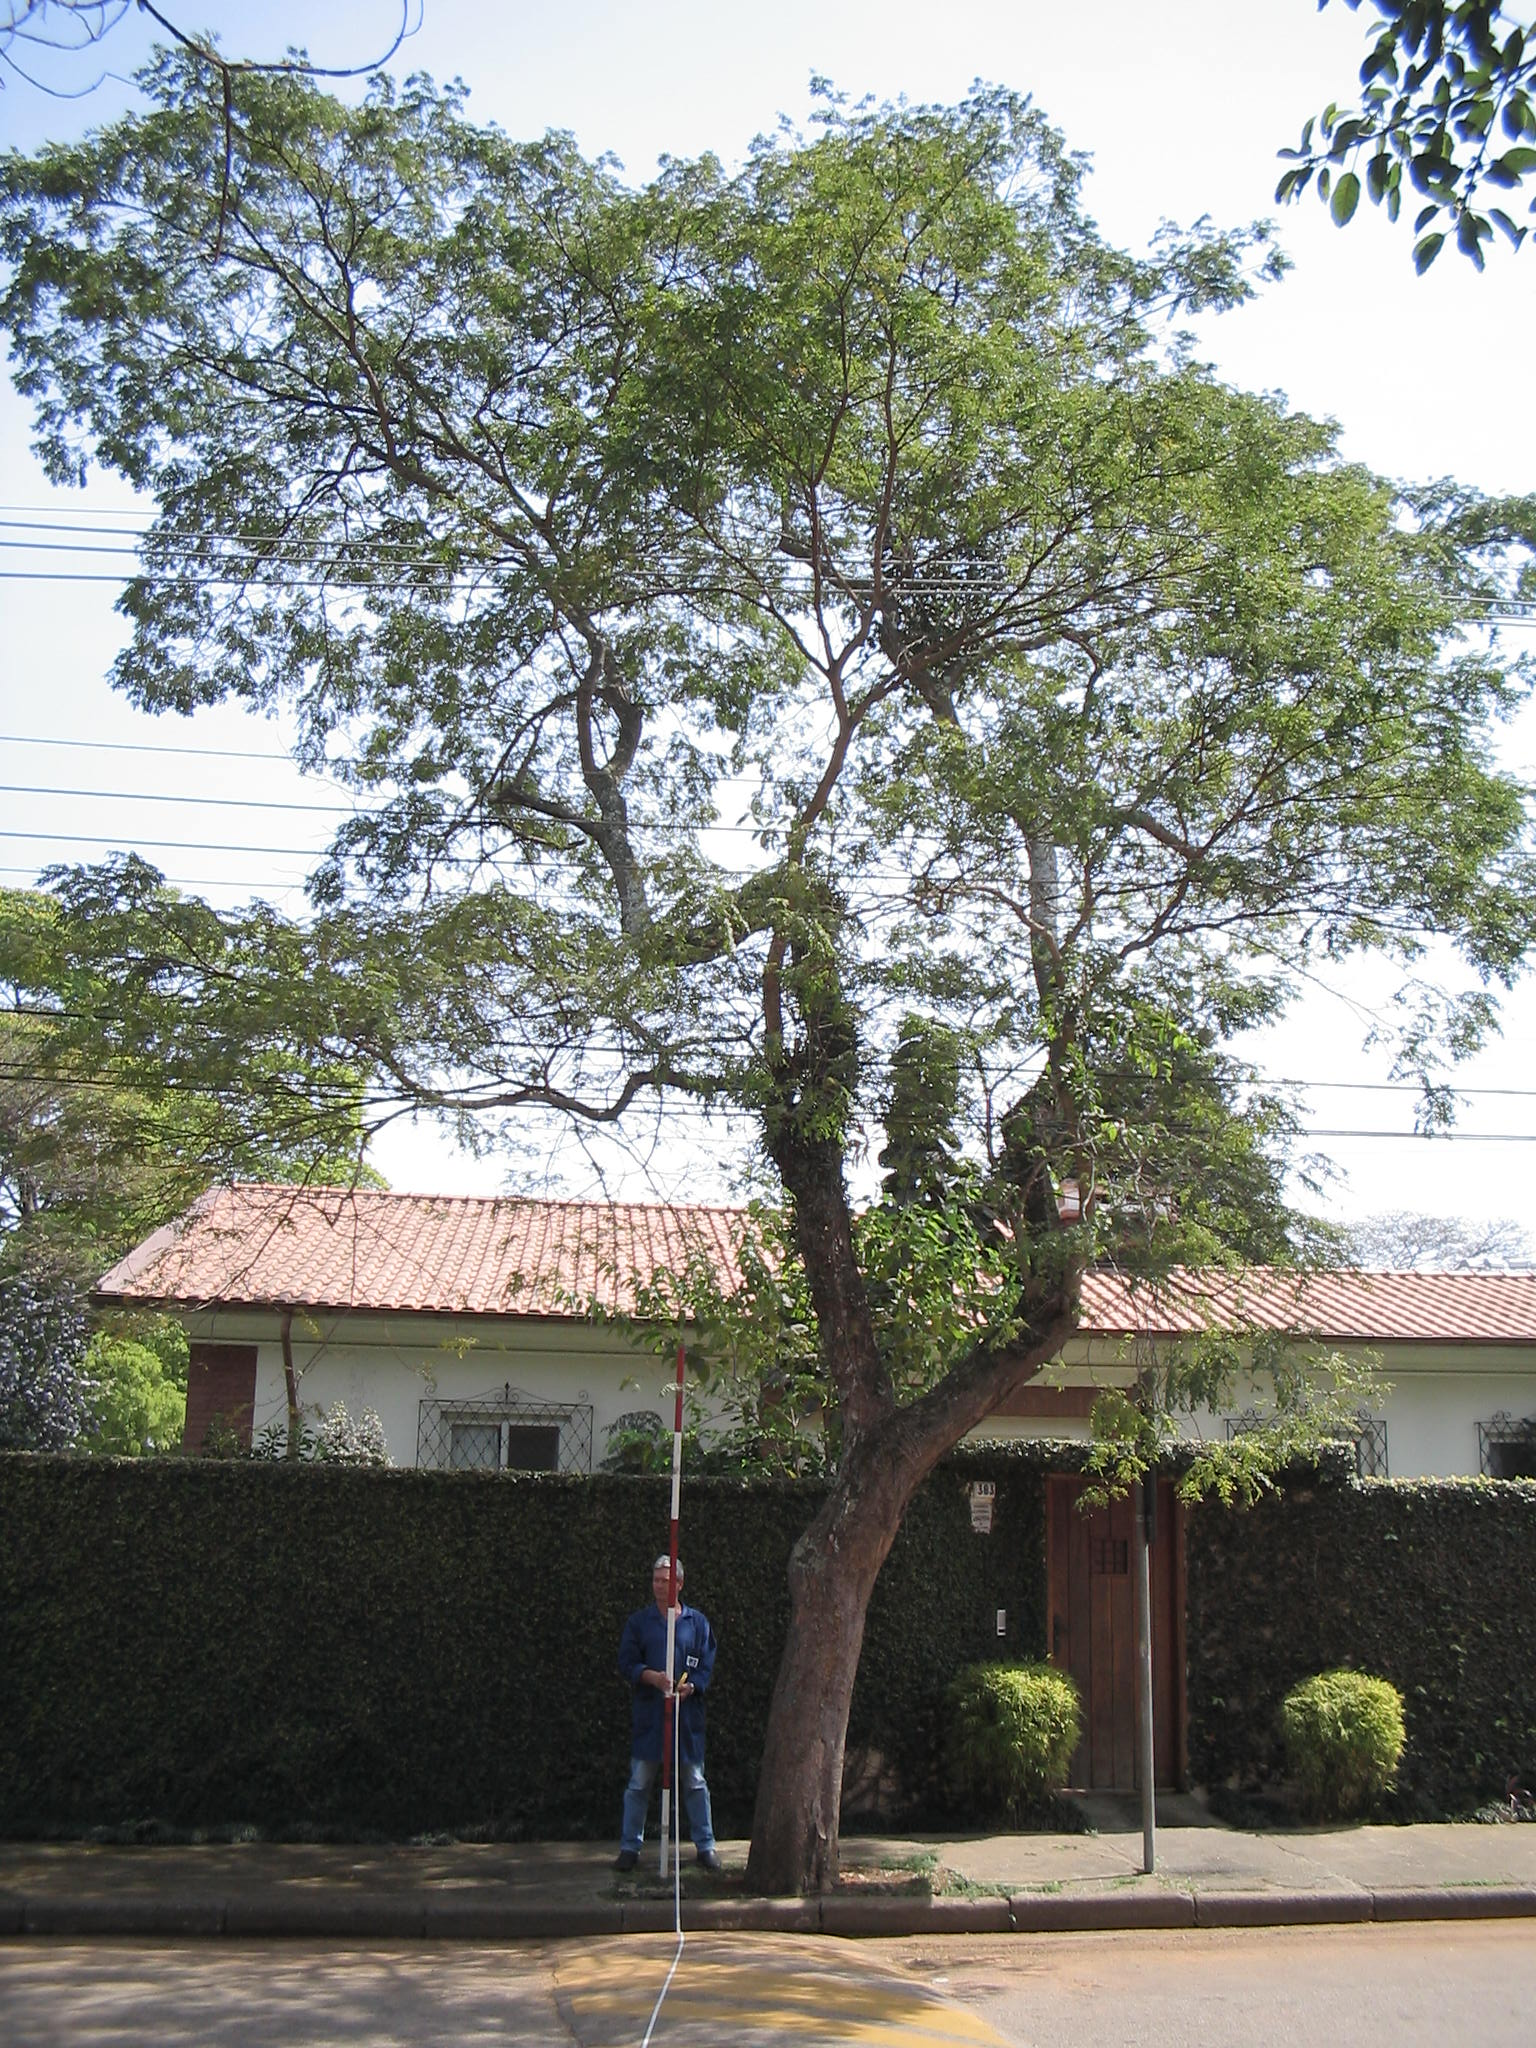crown: (15, 40, 1525, 1424)
stem: (716, 1397, 954, 1887)
stick: (624, 1345, 716, 1879)
tree: (6, 37, 1536, 1892)
